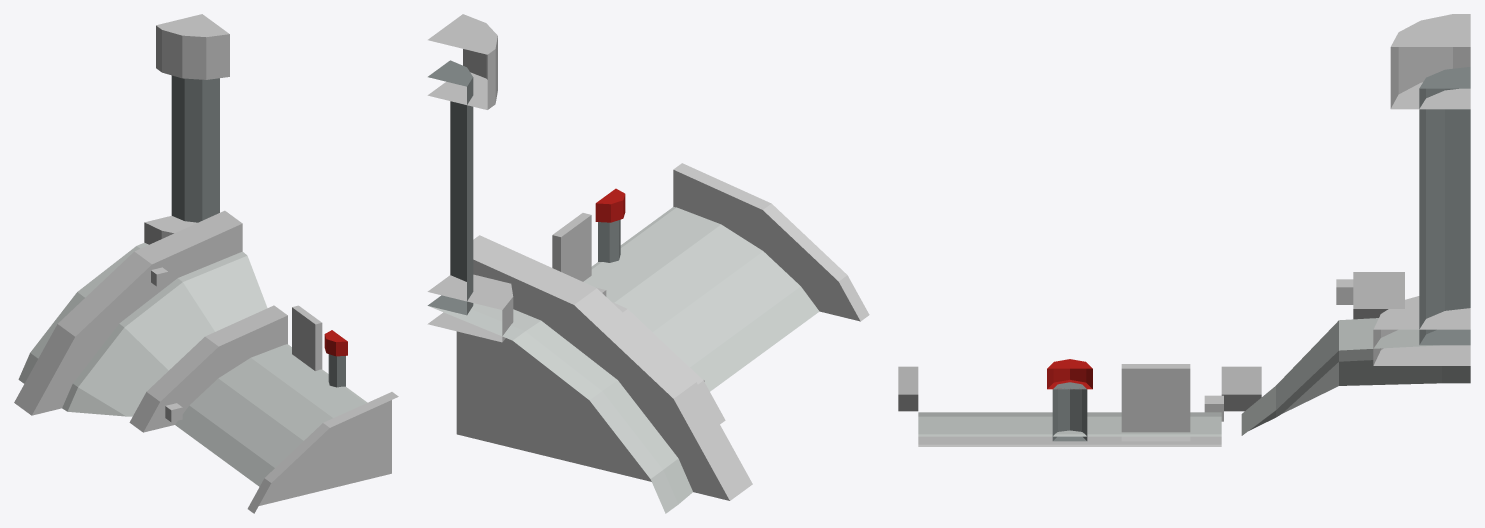
File: cell_64.obj
3 views of the same model, side by side, from view 1: azimuth 30°, elevation 25°; view 2: azimuth 150°, elevation 25°; view 3: azimuth 270°, elevation 25° (orthographic). The views are drawn at different scales.
Bounding box in the file's own units: 0.6194 × 0.9 × 1.
